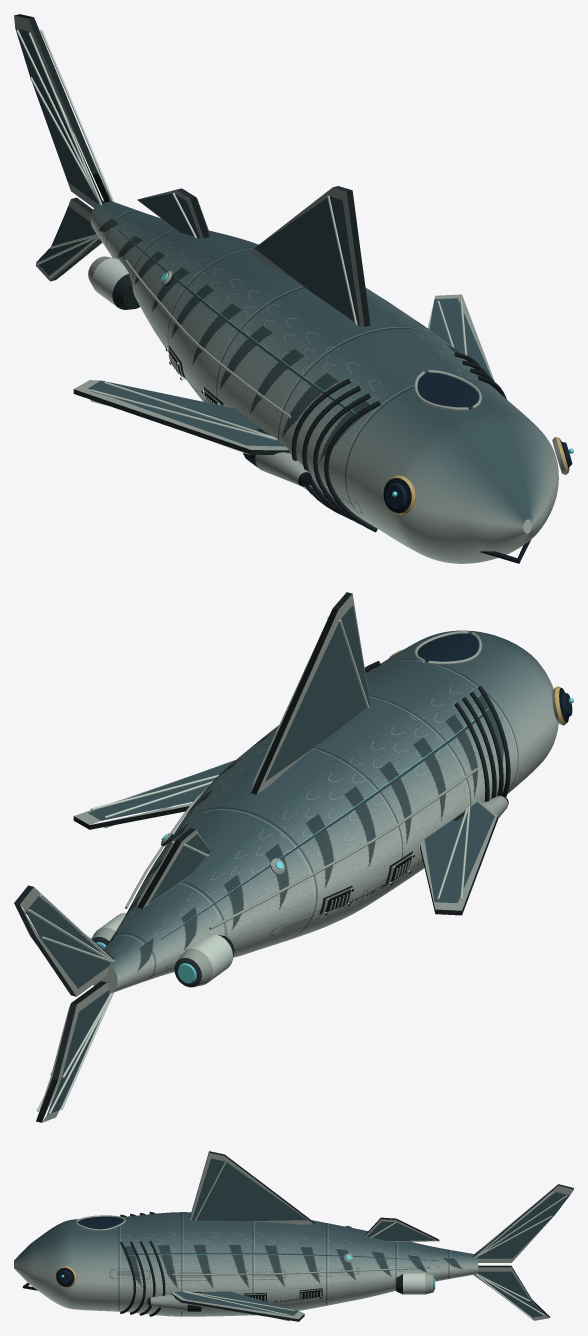
File: ship.glb
The picture shows the model from 3 angles, top to bottom: view 1: azimuth 30°, elevation 25°; view 2: azimuth 150°, elevation 25°; view 3: azimuth 270°, elevation 25°; orthographic projection. The views are drawn at different scales.
Parts seen in each view (by area): view 1: tiger_shark_hull; view 2: tiger_shark_hull; view 3: tiger_shark_hull.
Boxes of the visible parts, <box> form: tiger_shark_hull: <box>14,14,573,563</box>; tiger_shark_hull: <box>14,592,573,1122</box>; tiger_shark_hull: <box>14,1151,573,1321</box>.
Bounding box in the file's own units: 105 × 79.56 × 240.
Materials: 1 (1 with a texture image).
